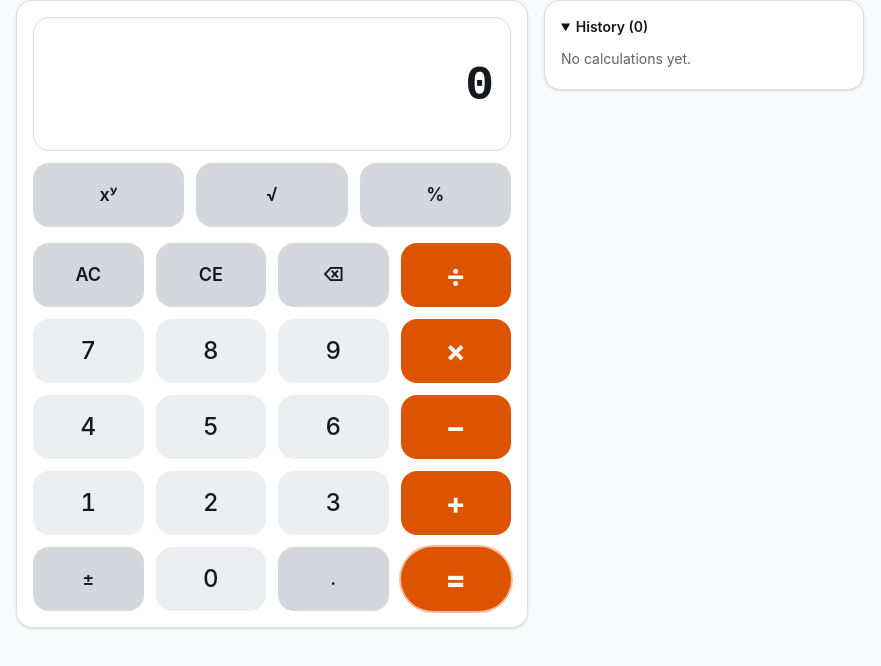
Calculator › retry (F2-04, #15) › shows a Retry button after a network error and re-issues the request when clicked
The image size is (881, 666).
Click the button "1": click(88, 503) [33, 471, 144, 535]
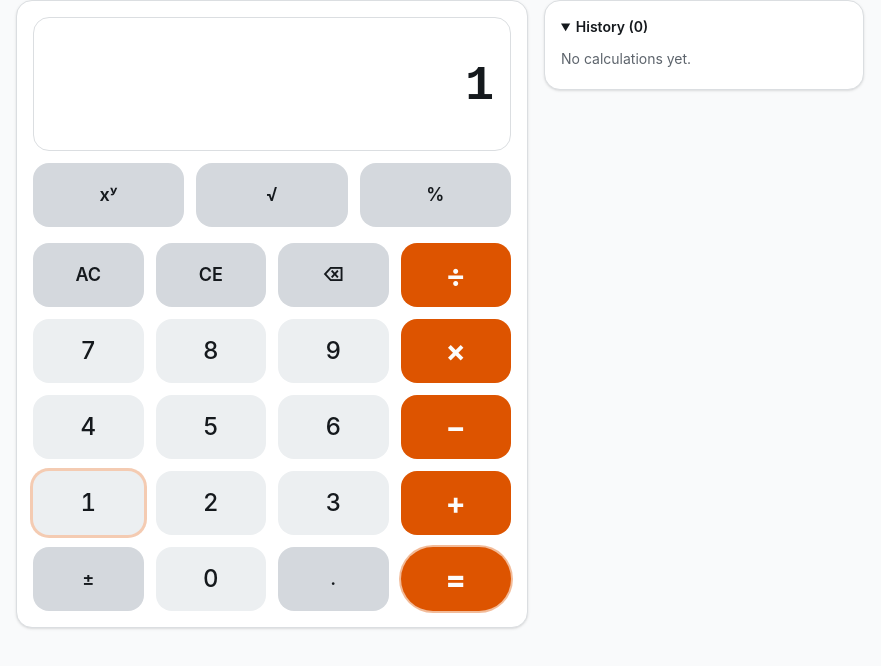
Click the button named "add": click(456, 503) [400, 471, 511, 535]
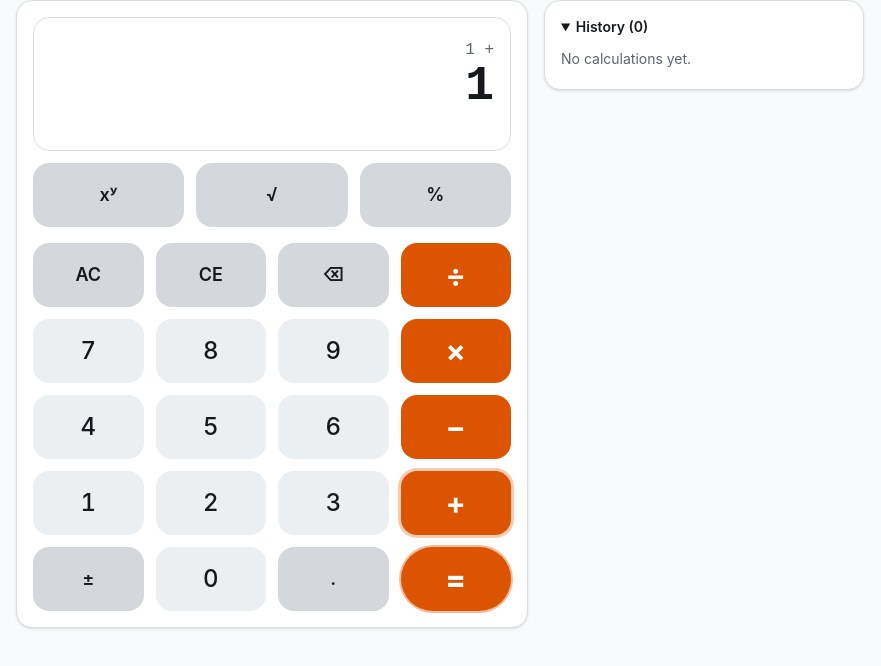
Click the button "1": click(88, 503) [33, 471, 144, 535]
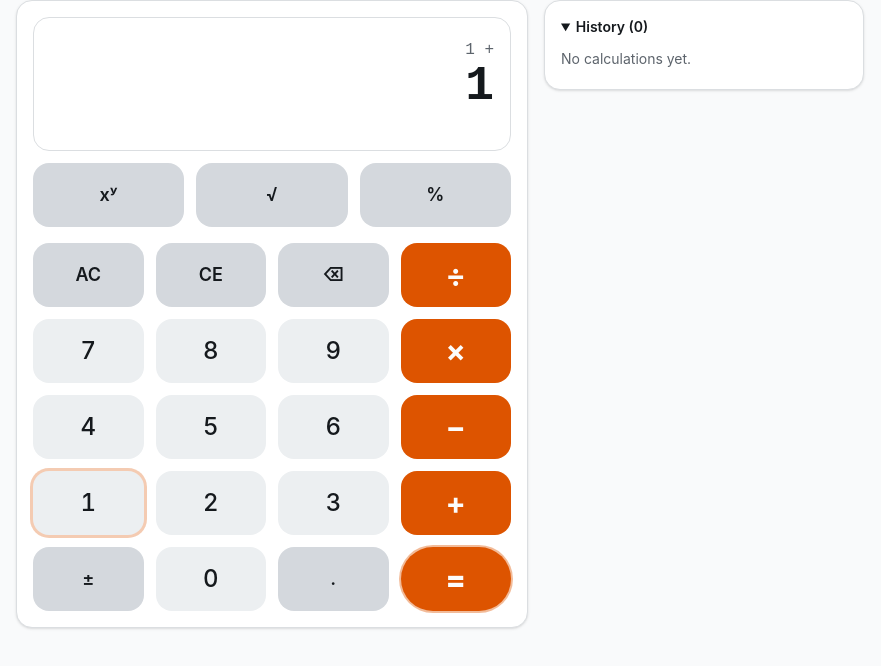
Click the button named "equals": click(456, 579) [400, 547, 511, 611]
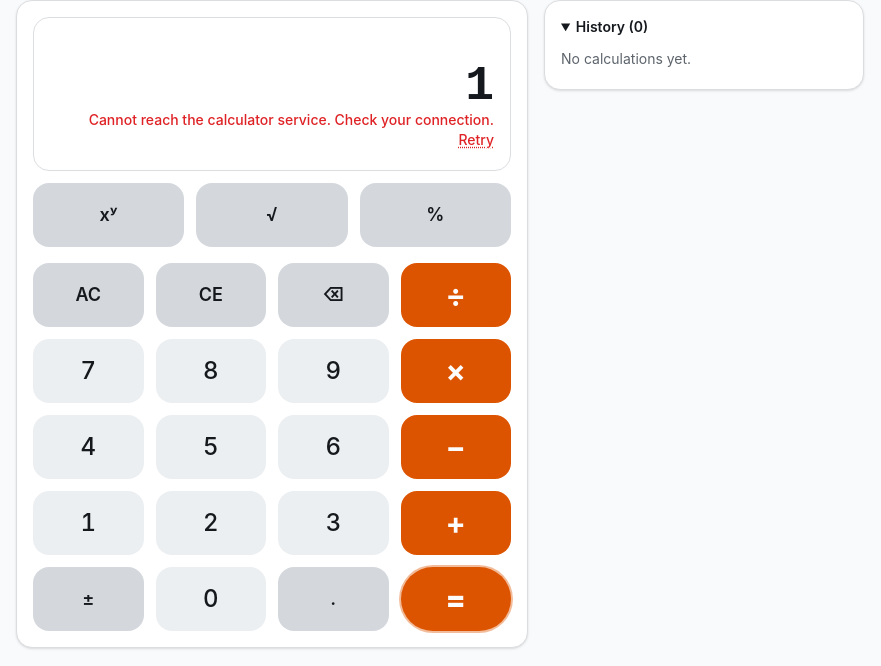
Now the message shows "Cannot reach the calculator service. Check your connection.", box [89, 111, 494, 128]
Click the button "Retry": click(476, 140) [458, 130, 494, 150]
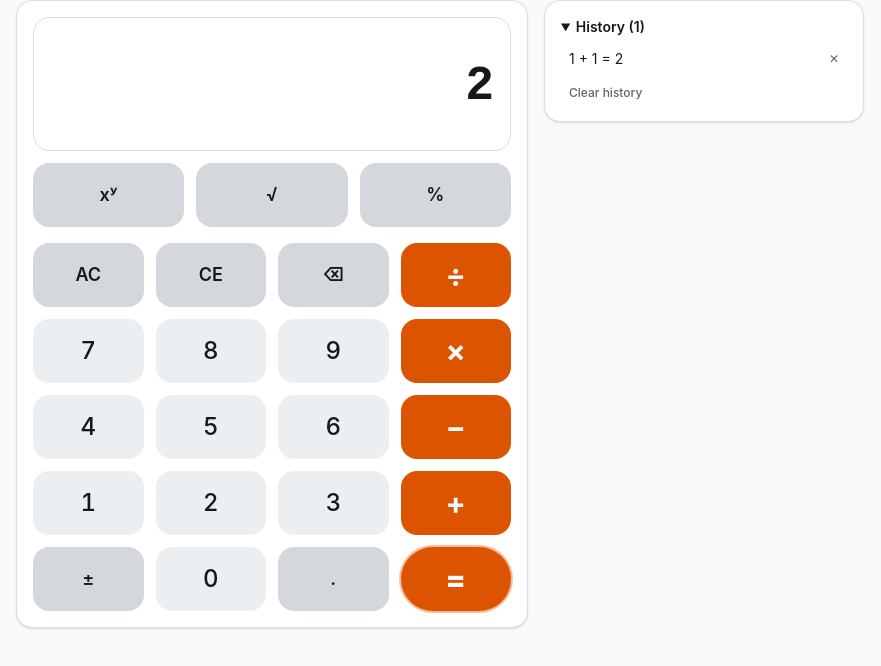
Expected: the message is empty, [50, 110, 494, 130]
Now the text "2" is shown, box [465, 62, 494, 110]
